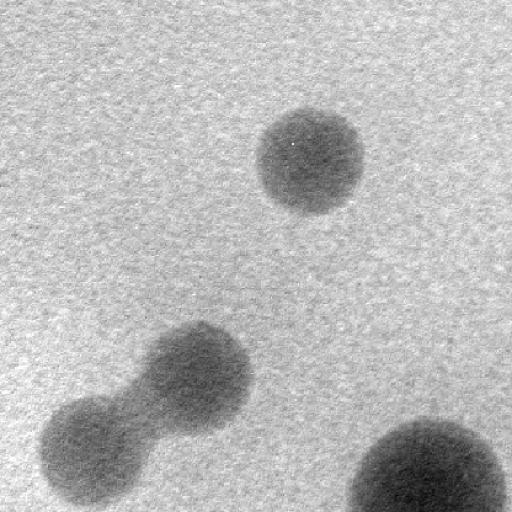Nanoparticles: (350, 421, 510, 512), (136, 318, 250, 429), (37, 397, 146, 507), (256, 106, 366, 214)
